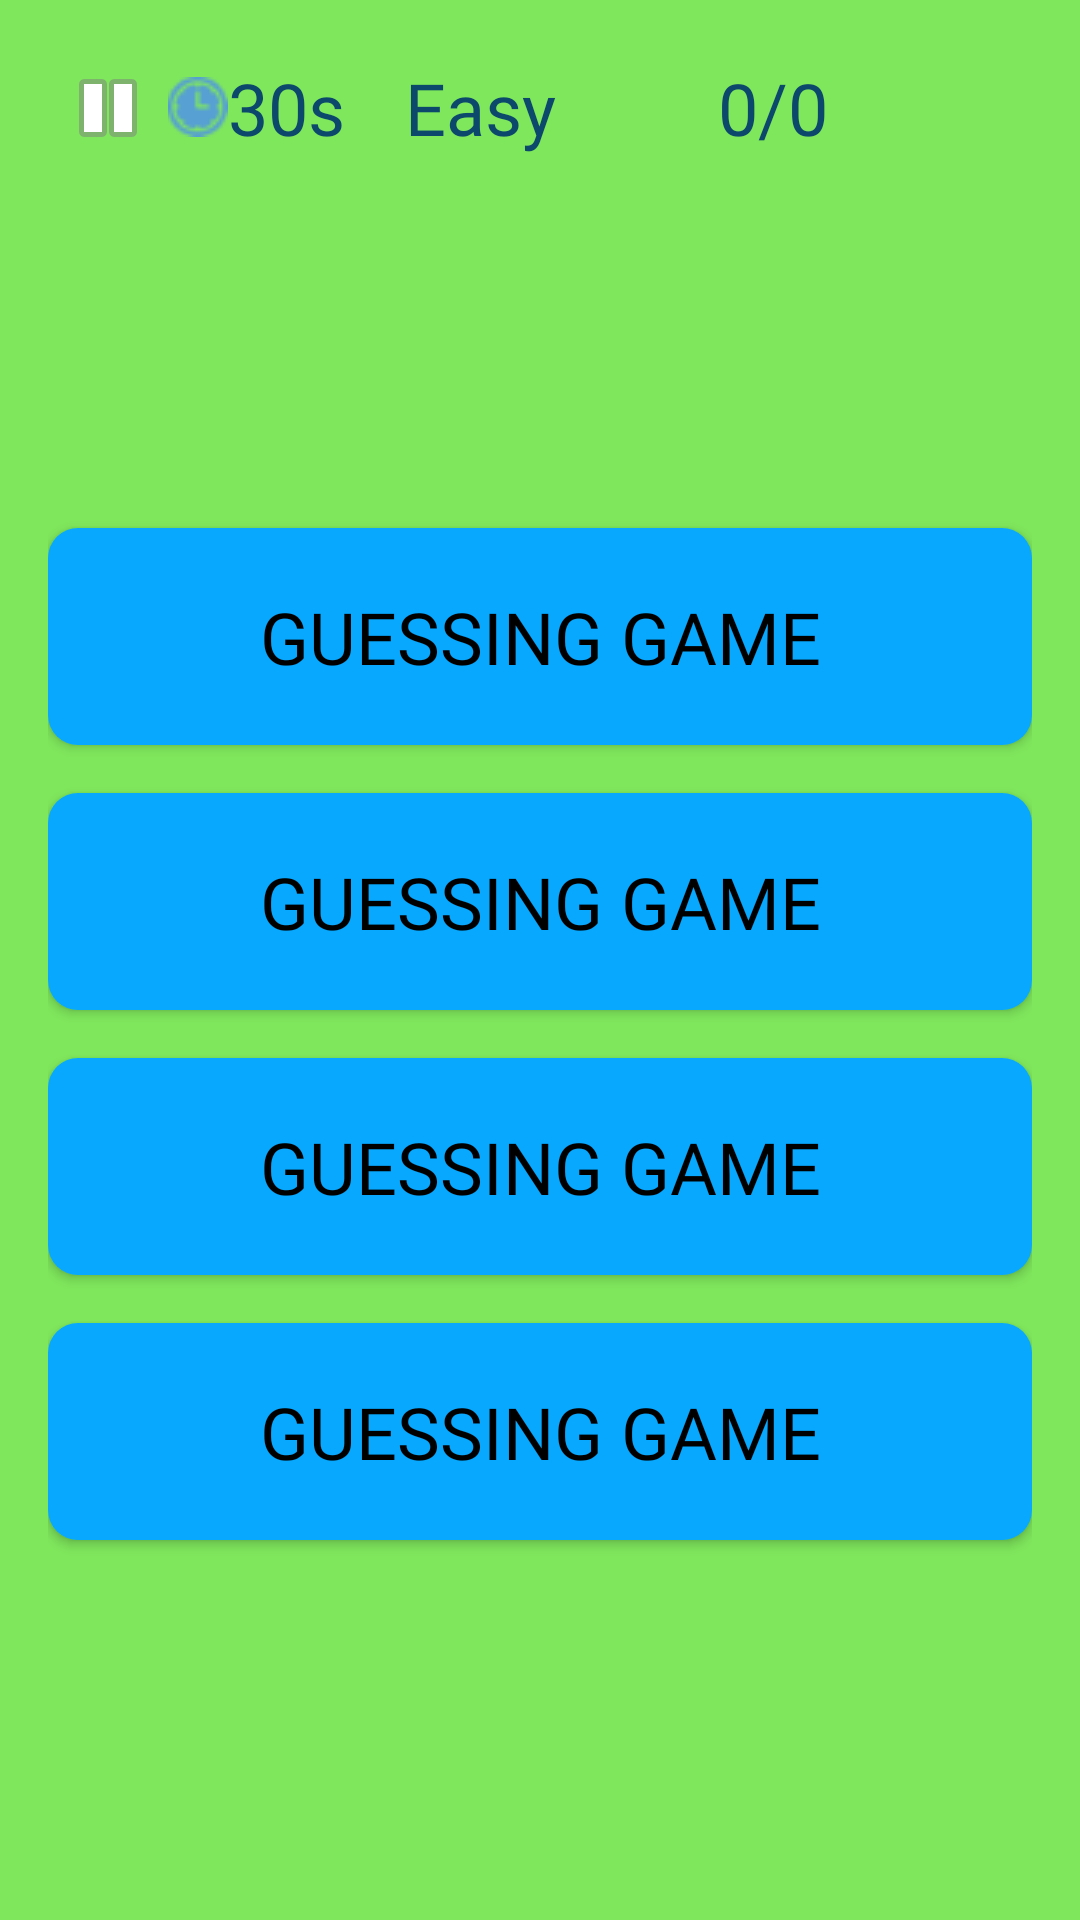

Icon click points for this 1080 × 1920 phone screenshot, format point (x, y):
Pause Menu: point (108, 108)
